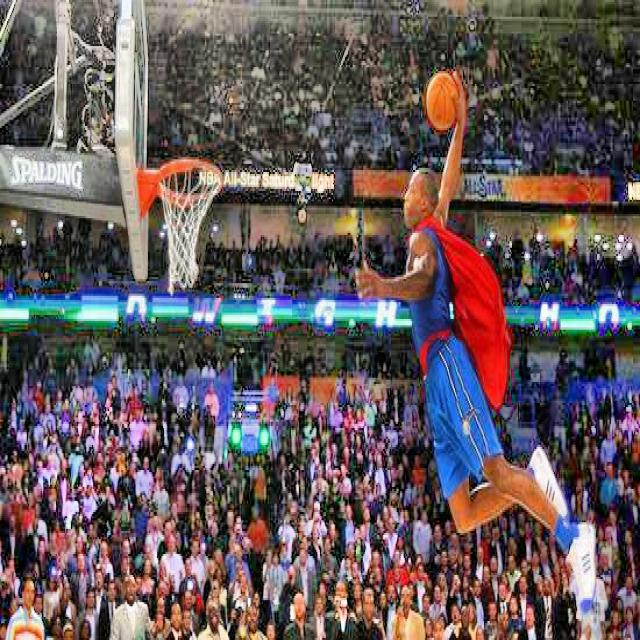board: (426, 71, 460, 130)
rim: (158, 158, 223, 293)
